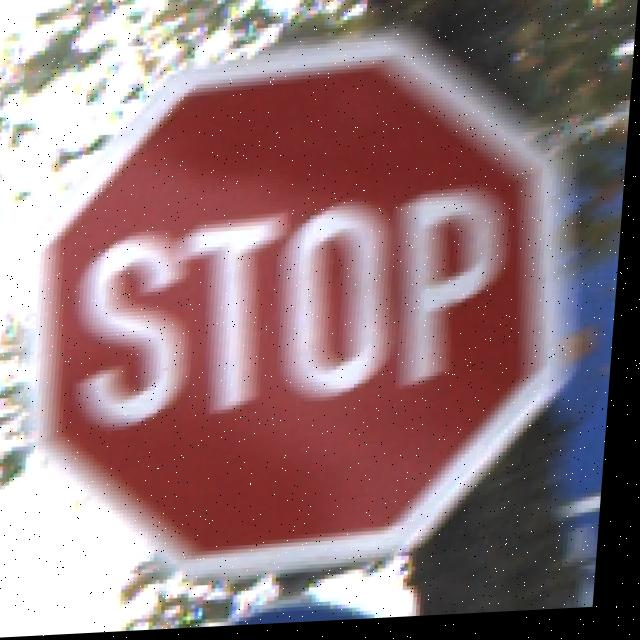stop: (5, 37, 596, 585)
